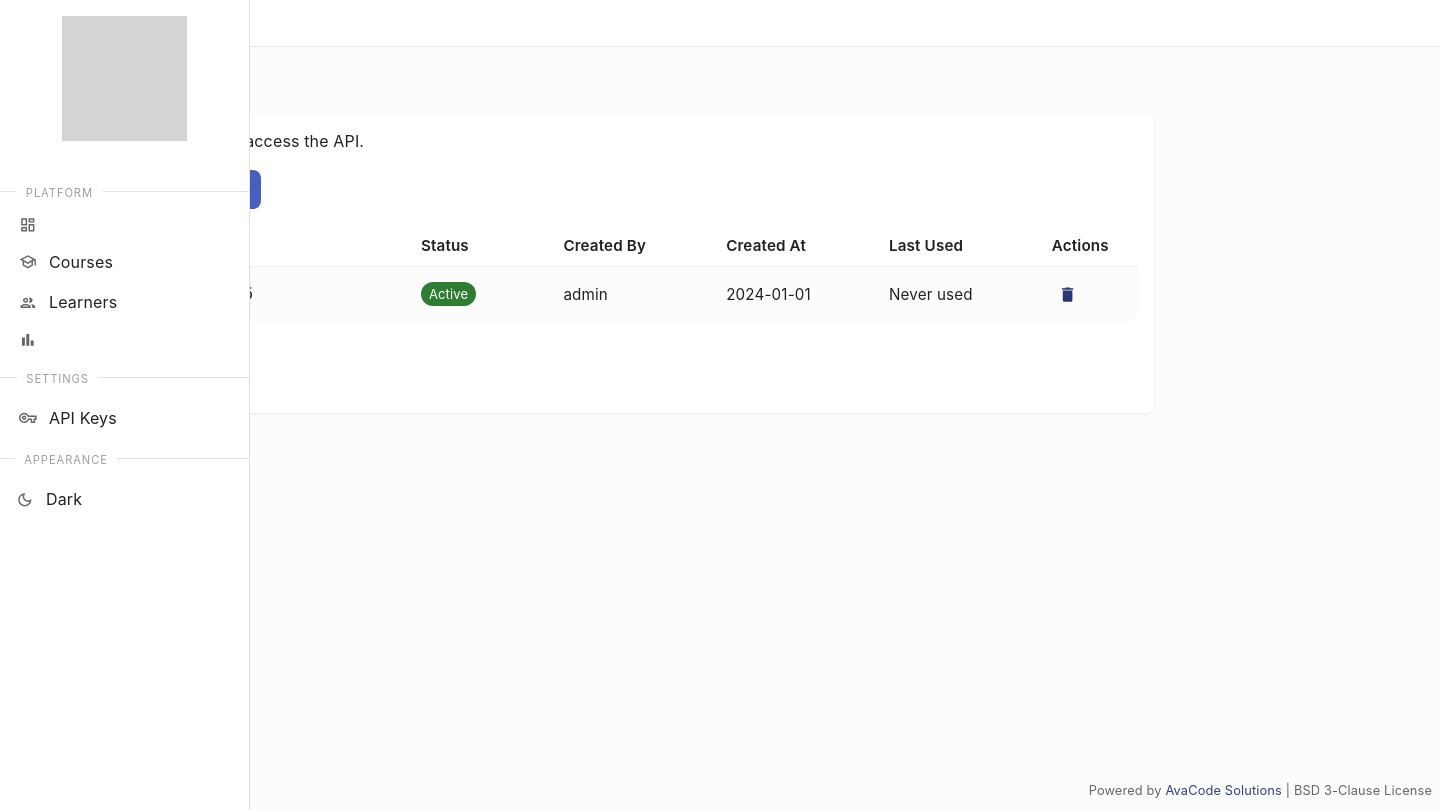
Test: ApiKeys › shows revoke confirmation dialog when the revoke icon is clicked
The image size is (1440, 810).
Expected: the text "admin" is shown, [547, 267, 710, 322]
Click the button at x=1067, y=294, box [1054, 281, 1081, 308]
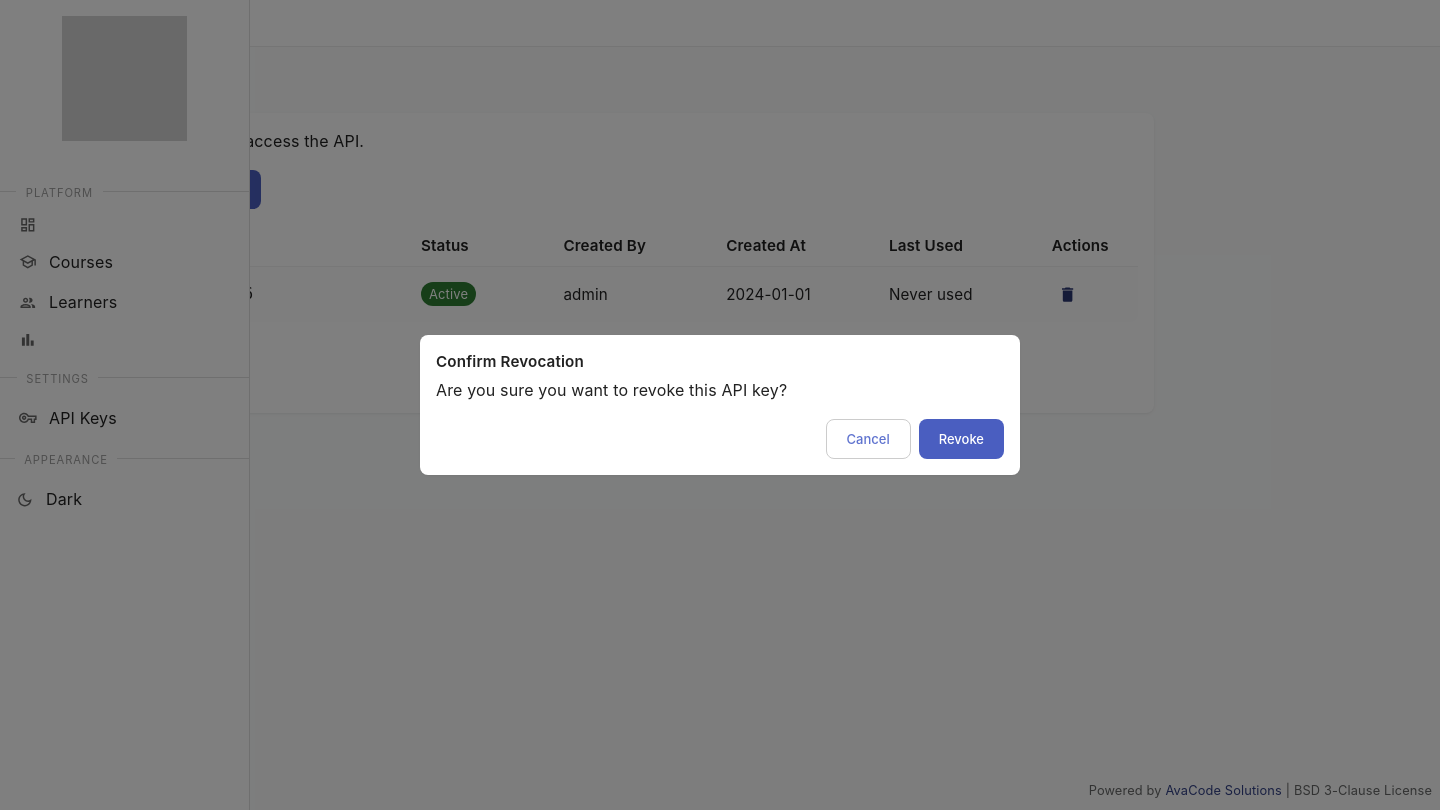
Expected: the heading "Confirm Revocation" is shown, [436, 352, 584, 370]
